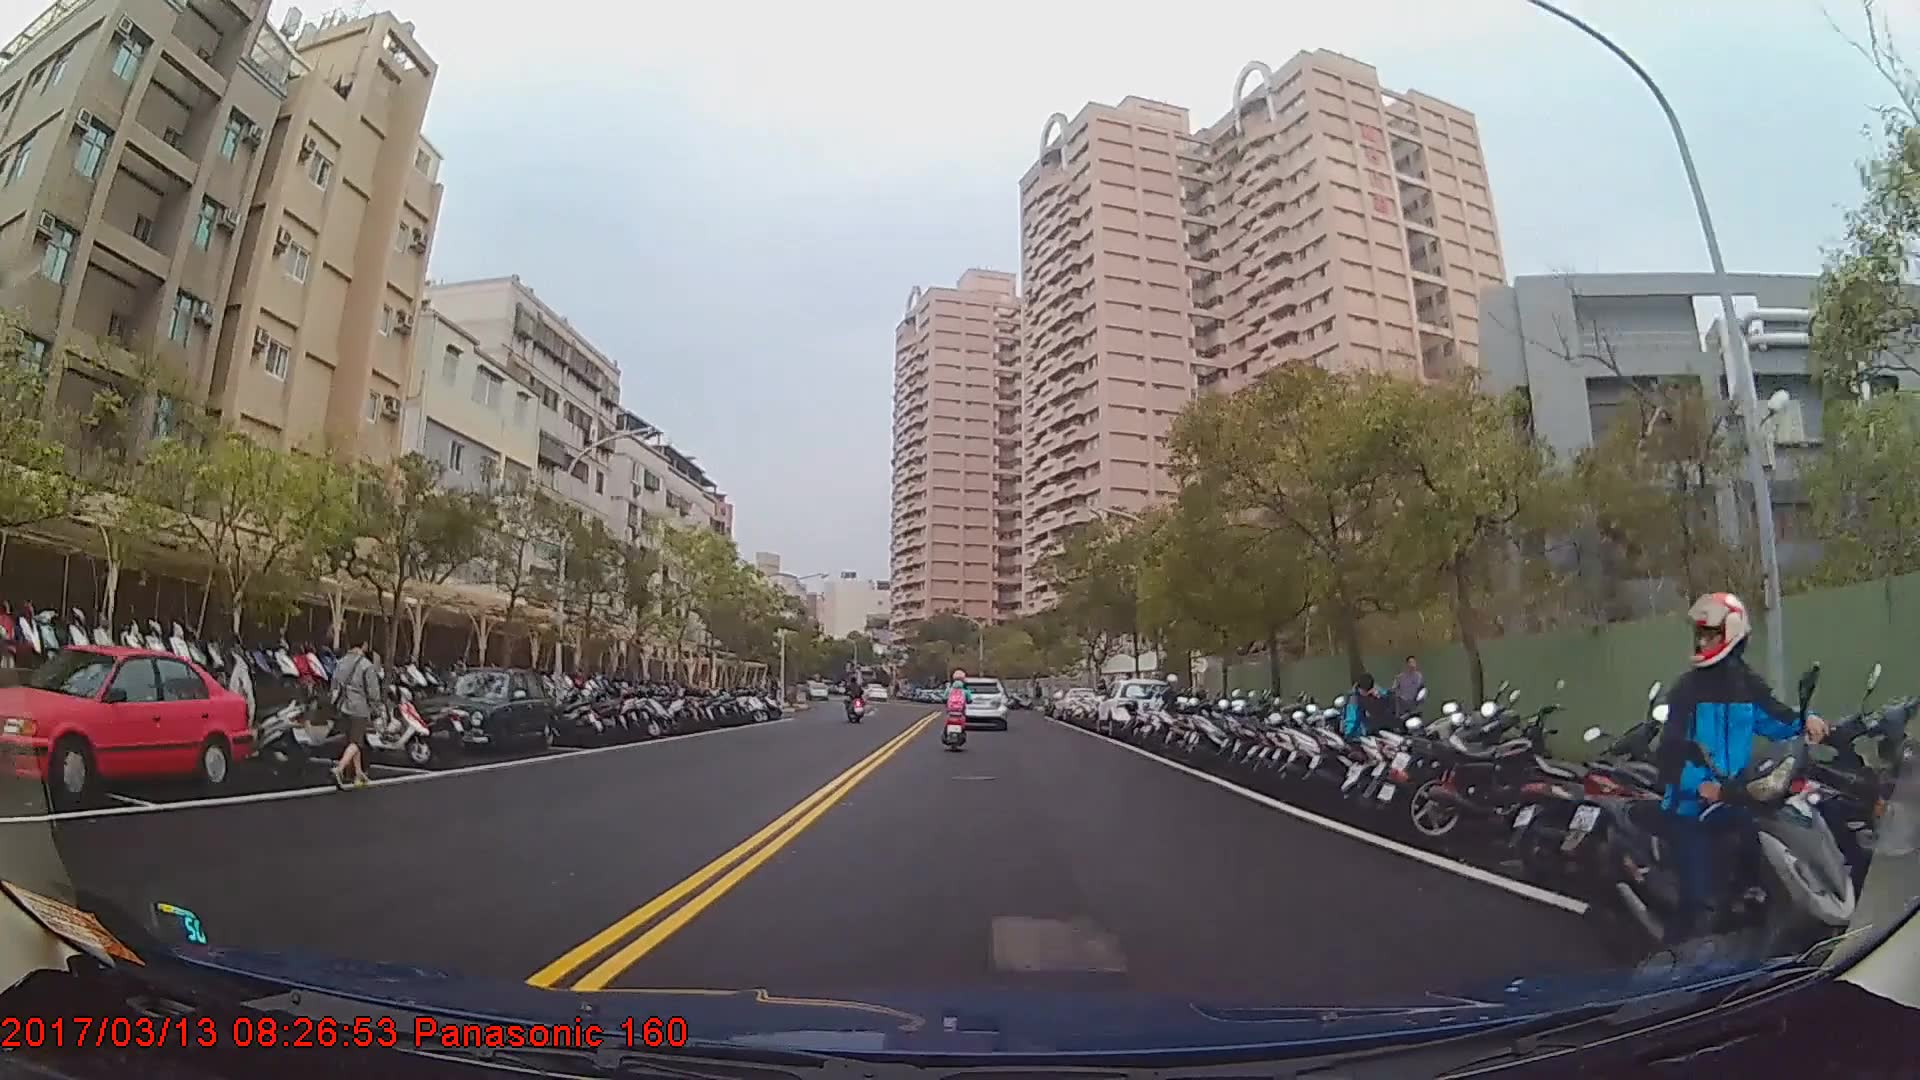pedestrian: (321, 630, 397, 792), (1343, 672, 1400, 799), (1389, 654, 1426, 758)
rider: (1593, 591, 1795, 1031), (941, 673, 974, 748), (844, 680, 866, 726)
vehicle: (0, 646, 251, 801), (413, 668, 552, 758), (1095, 678, 1178, 740), (951, 677, 1008, 729)
